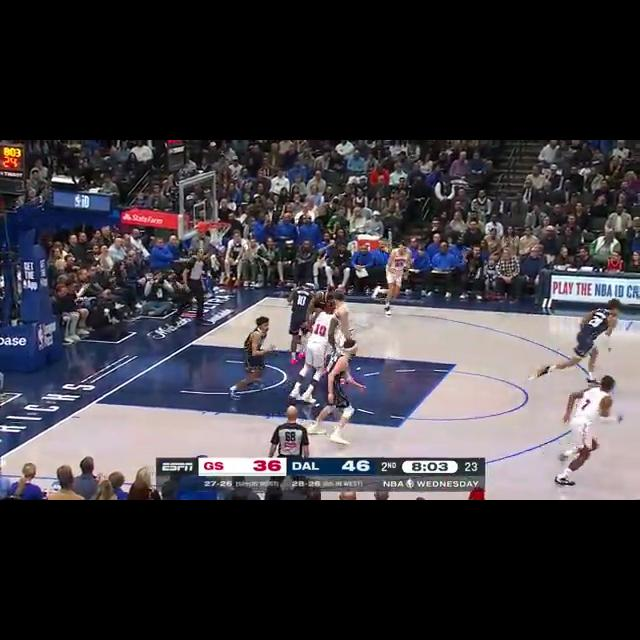Team-1-Player: (528, 293, 626, 383), (303, 336, 373, 448), (222, 314, 278, 402), (282, 281, 324, 359)
Team-2-Player: (548, 374, 628, 486), (288, 302, 344, 404), (378, 242, 416, 308)
